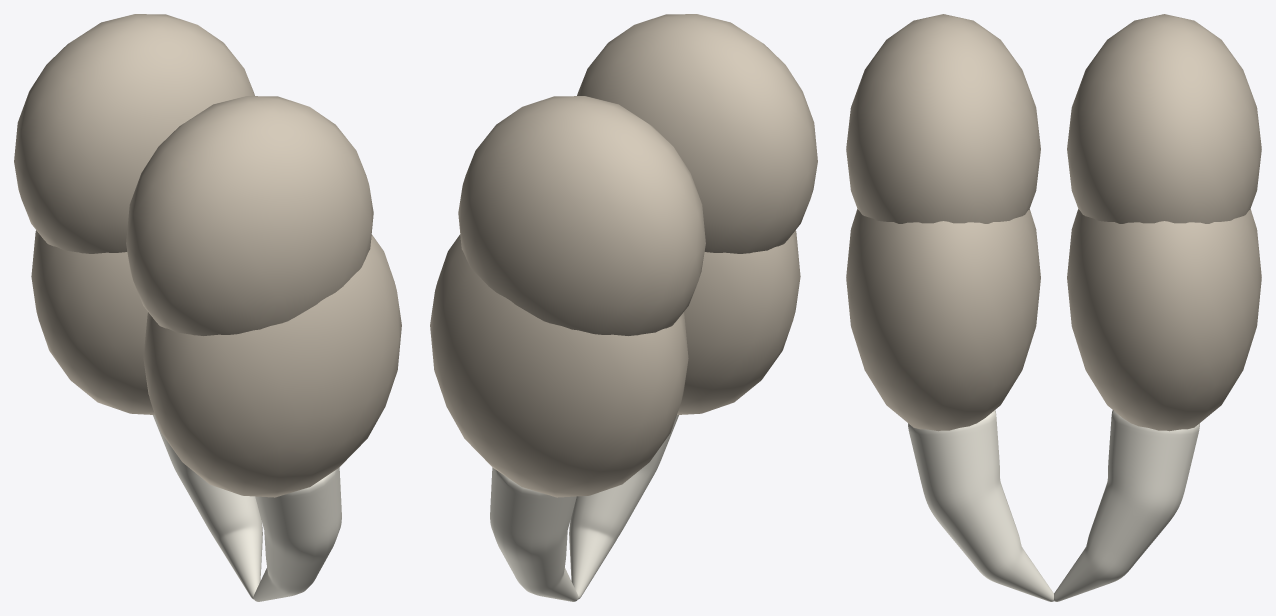
File: creature.fangs.glb
The picture shows the model from 3 angles, left to right: view 1: azimuth 30°, elevation 25°; view 2: azimuth 150°, elevation 25°; view 3: azimuth 270°, elevation 25°; orthographic projection.
Parts seen in each view (by area): view 1: Skin, Claw; view 2: Skin, Claw; view 3: Skin, Claw.
Boxes of the visible parts, x1=… form: Skin: x1=14, y1=14, x2=401, y2=497; Claw: x1=153, y1=415, x2=341, y2=601; Skin: x1=430, y1=14, x2=817, y2=497; Claw: x1=490, y1=415, x2=678, y2=601; Skin: x1=846, y1=14, x2=1261, y2=431; Claw: x1=908, y1=410, x2=1199, y2=601.
Size of the model in its own units: 0.9 by 1.85 by 1.28.
